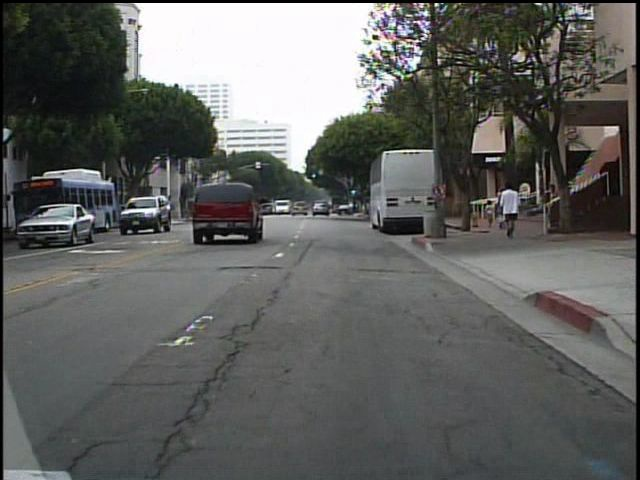person: (500, 178, 526, 240), (544, 179, 562, 235), (484, 196, 497, 229)
